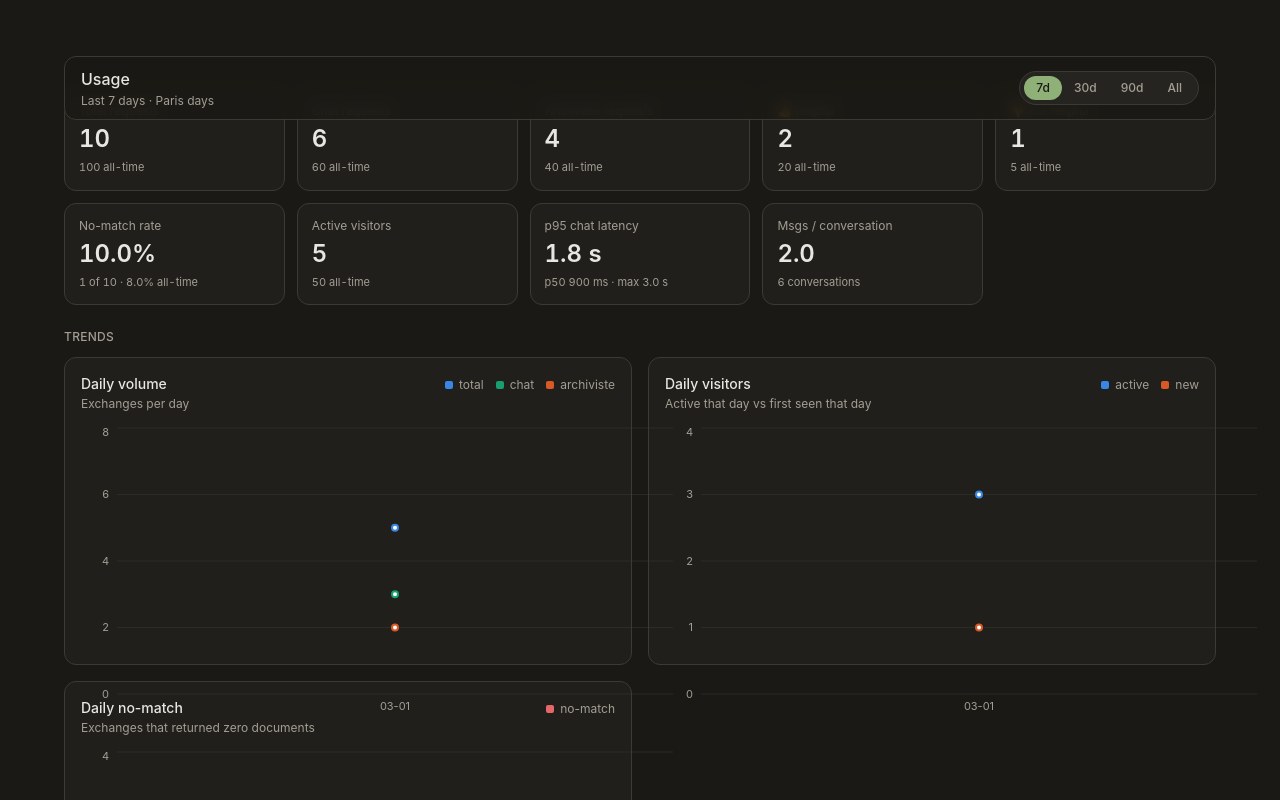
Test: VizDashboard › re-queries on a period change and relabels the header
Expected: the text "Total requests" is shown, top-left (79, 103), bottom-right (159, 118)
Click the radio button labelled "All".
click(1175, 88)  # box top-left (1155, 76), bottom-right (1194, 100)
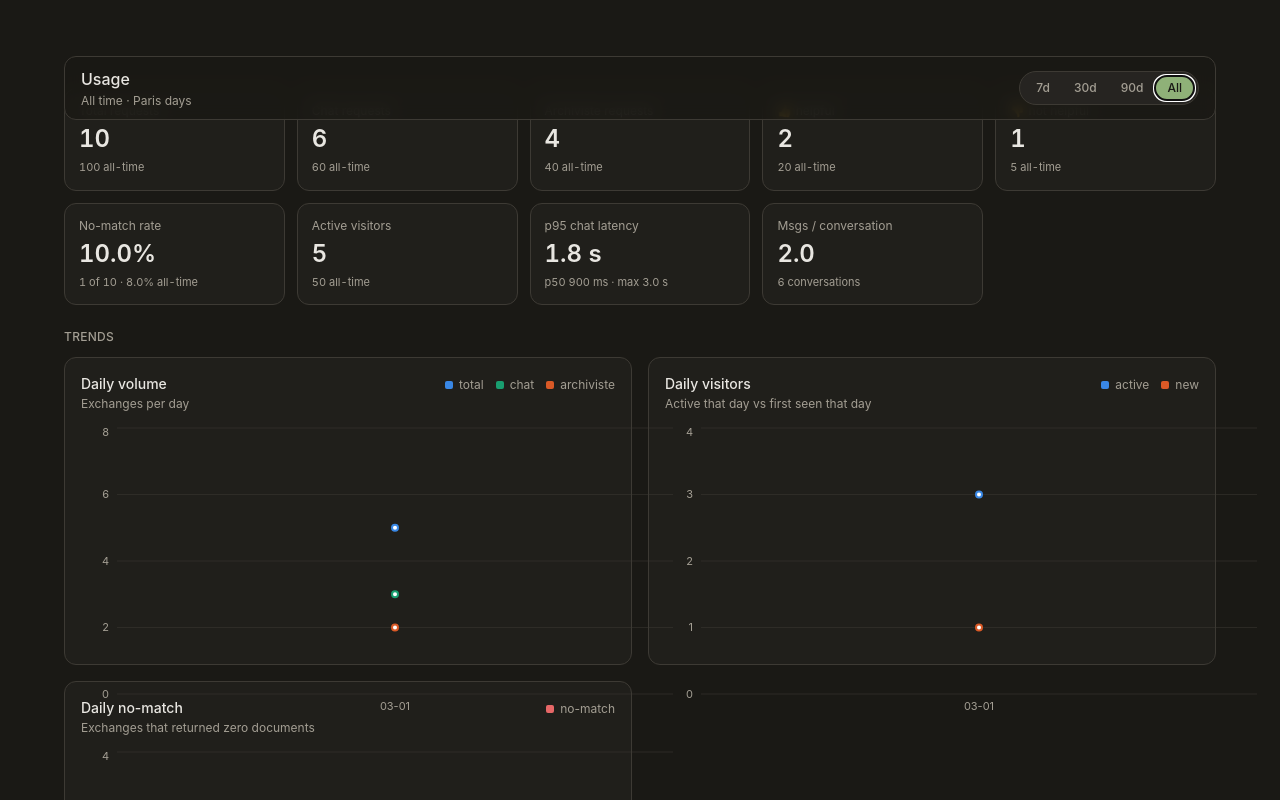
Result: the text "All time · Paris days" is shown at top-left (81, 93), bottom-right (192, 109)
